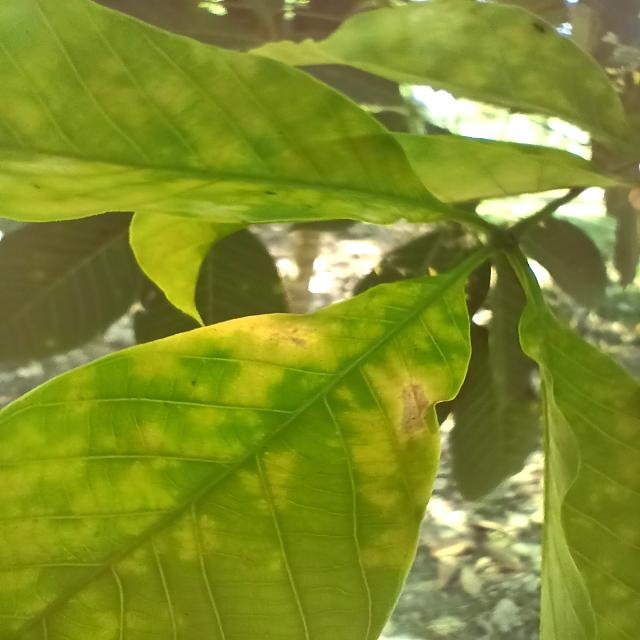Leaf-Blight: (402, 384, 428, 432)
